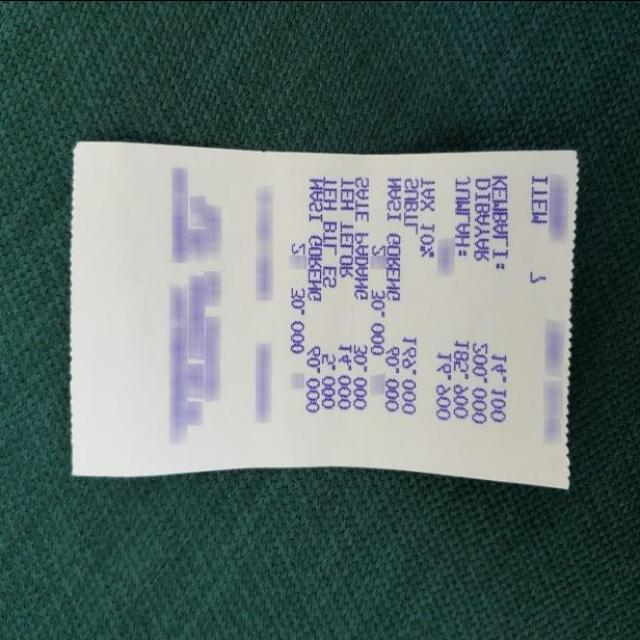kertas: (64, 135, 578, 488)
